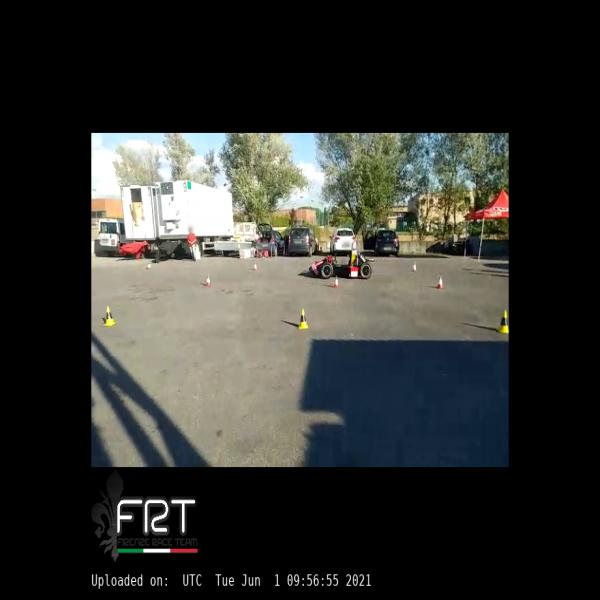orange_cone: (436, 276, 444, 289), (205, 274, 211, 287), (411, 262, 418, 272), (334, 275, 339, 288), (252, 261, 258, 271)
unknown_cone: (145, 260, 152, 271)
yellow_cone: (496, 310, 508, 334), (103, 306, 116, 326), (298, 308, 308, 329)
